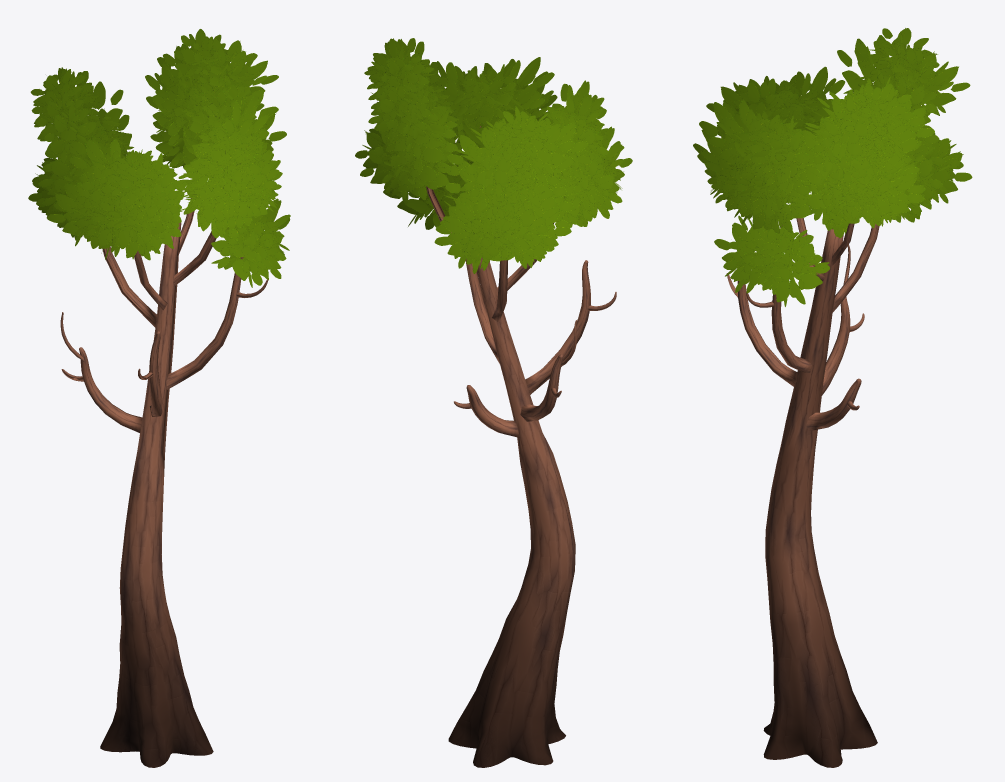
File: CommonTree_4.gltf
The picture shows the model from 3 angles, left to right: view 1: azimuth 30°, elevation 25°; view 2: azimuth 150°, elevation 25°; view 3: azimuth 270°, elevation 25°; orthographic projection. The views are drawn at different scales.
Parts seen in each view (by area): view 1: CommonTree_4; view 2: CommonTree_4; view 3: CommonTree_4.
Boxes of the visible parts, x1,y1,x2,y2 form: CommonTree_4: [28, 29, 290, 767]; CommonTree_4: [355, 38, 632, 767]; CommonTree_4: [693, 28, 972, 767].
Size of the model in its own units: 3.83 by 9.44 by 3.76.
Materials: 2 (2 with a texture image).
